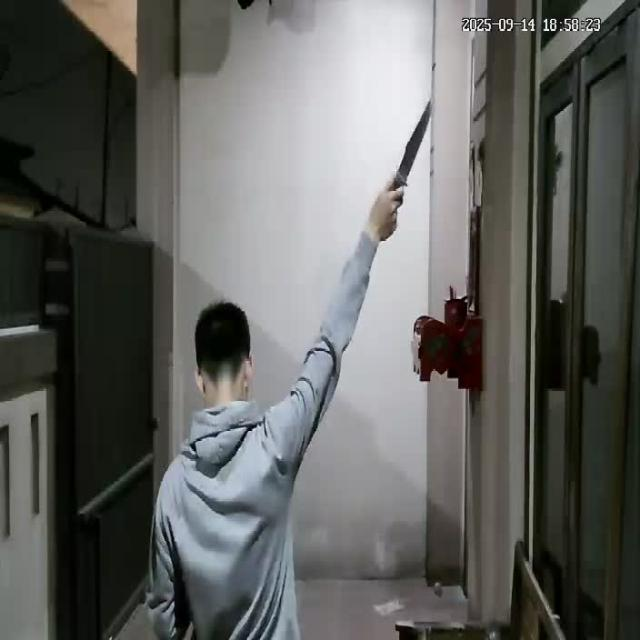senjata_tajam: (394, 95, 436, 187)
